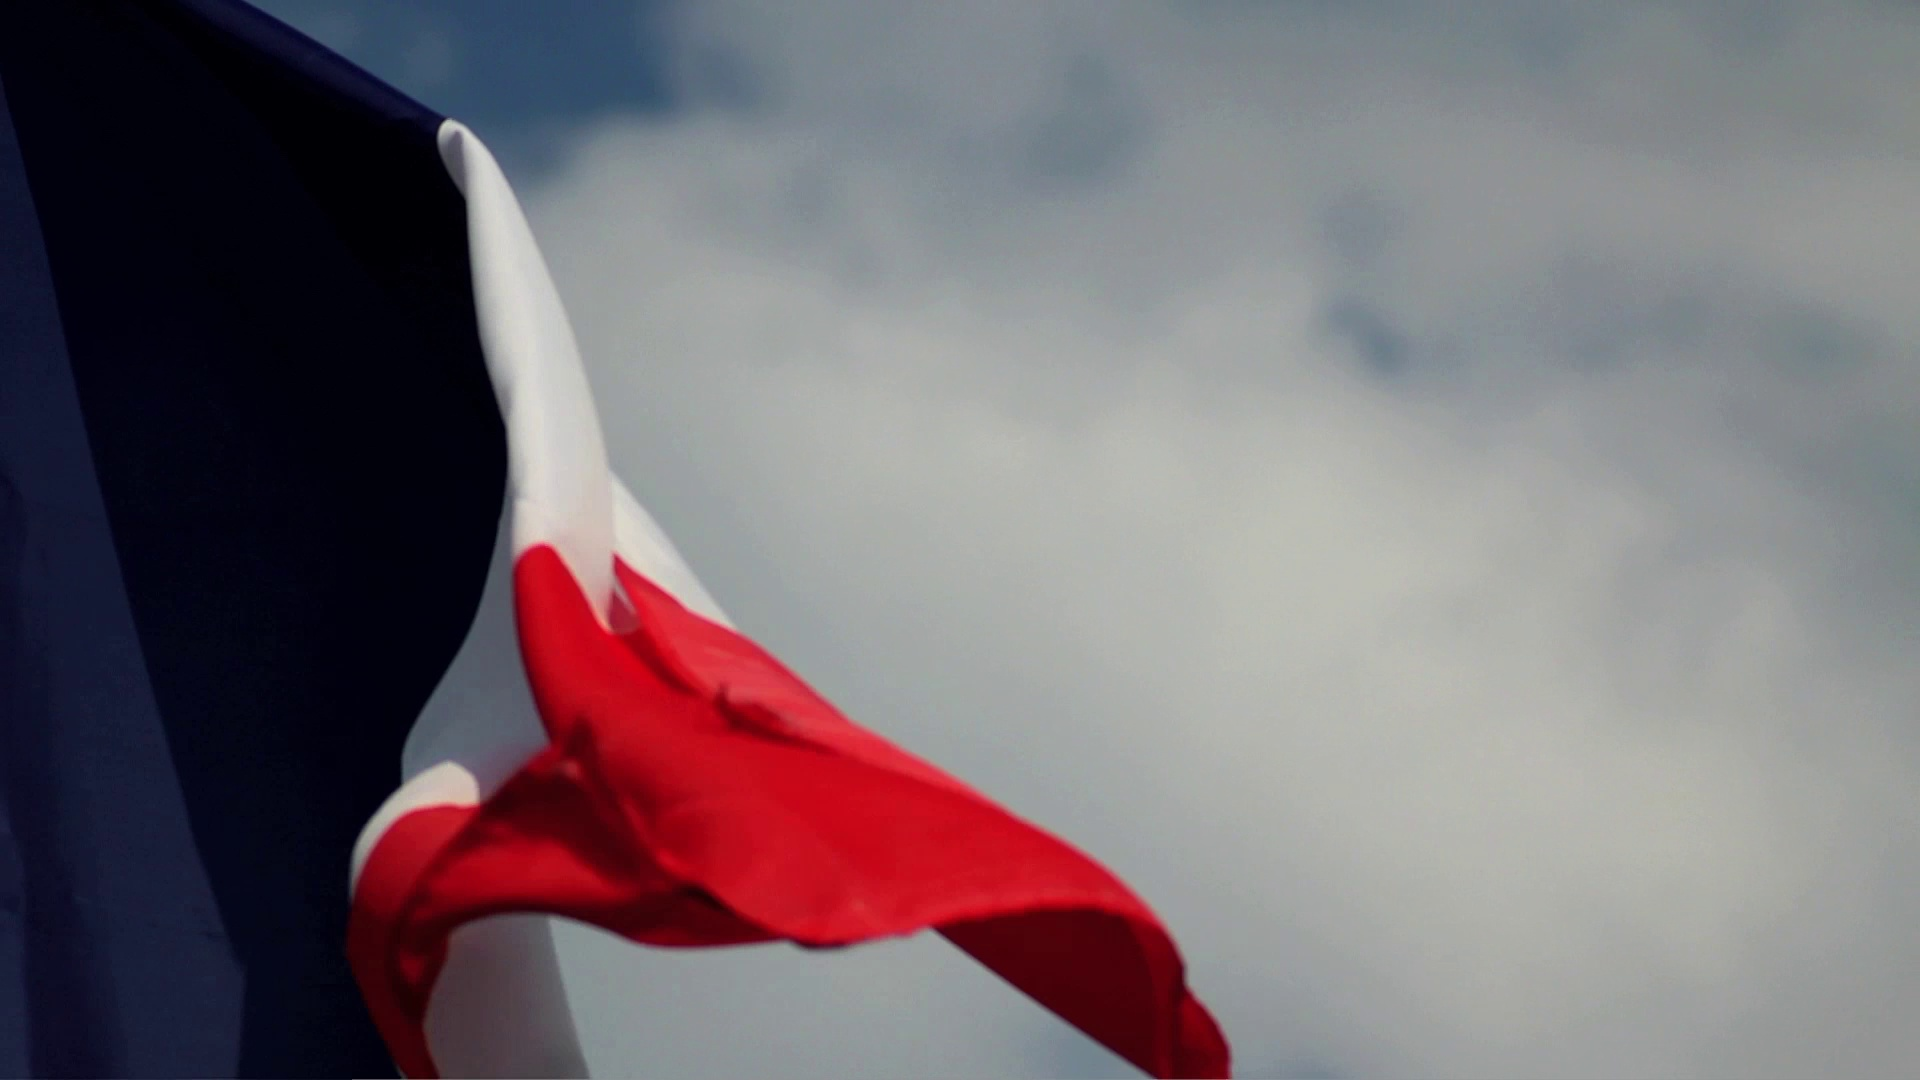French Flag: (1, 3, 1244, 1080)
